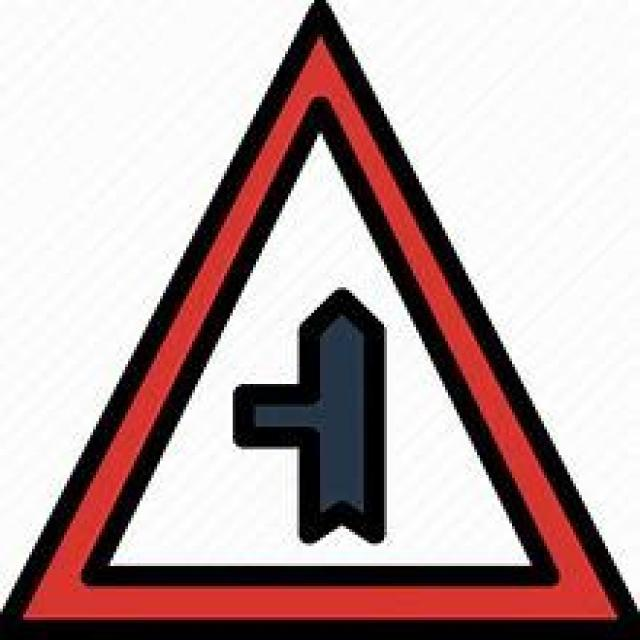side road left: (21, 30, 620, 620)
